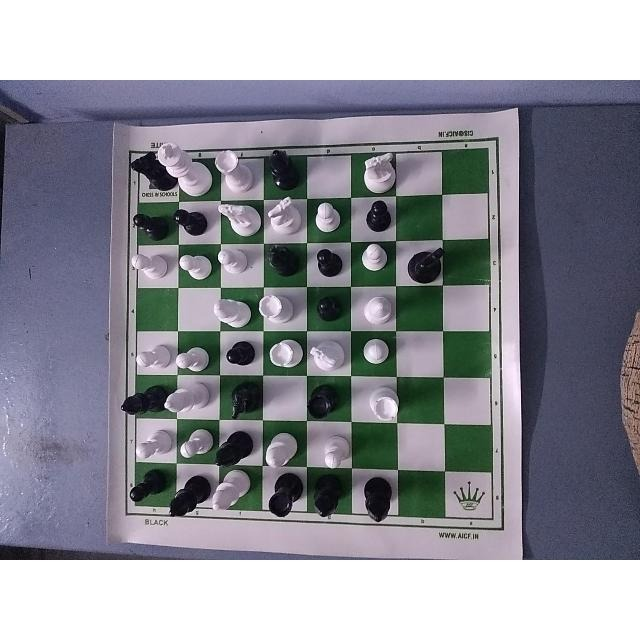black-bishop: (118, 378, 170, 425), (168, 472, 212, 524), (260, 144, 302, 196), (309, 475, 349, 525), (358, 474, 398, 522), (258, 241, 300, 282), (212, 431, 256, 469)
black-knight: (126, 149, 174, 193), (407, 242, 445, 288), (223, 380, 263, 418)
black-pawn: (127, 469, 168, 506), (170, 204, 212, 239), (361, 197, 395, 239), (131, 206, 169, 239), (222, 335, 258, 367), (317, 246, 345, 282), (314, 294, 342, 326)
black-rook: (262, 475, 303, 522), (304, 381, 340, 421)
white-bishop: (210, 466, 251, 516), (162, 383, 216, 415), (209, 294, 257, 328), (263, 431, 297, 471), (363, 288, 397, 327)
white-king: (153, 139, 214, 193)
white-knight: (261, 198, 307, 240), (213, 202, 265, 238), (306, 334, 351, 372), (362, 148, 398, 192)
white-pawn: (306, 197, 349, 237), (131, 246, 171, 285), (358, 333, 394, 371), (177, 421, 210, 462), (134, 428, 173, 462), (177, 250, 217, 282), (355, 244, 393, 276), (173, 341, 208, 372), (135, 342, 171, 371), (316, 436, 352, 465), (217, 243, 249, 274)
white-rook: (257, 291, 305, 329), (214, 148, 254, 189), (261, 341, 305, 374), (369, 386, 401, 424)
